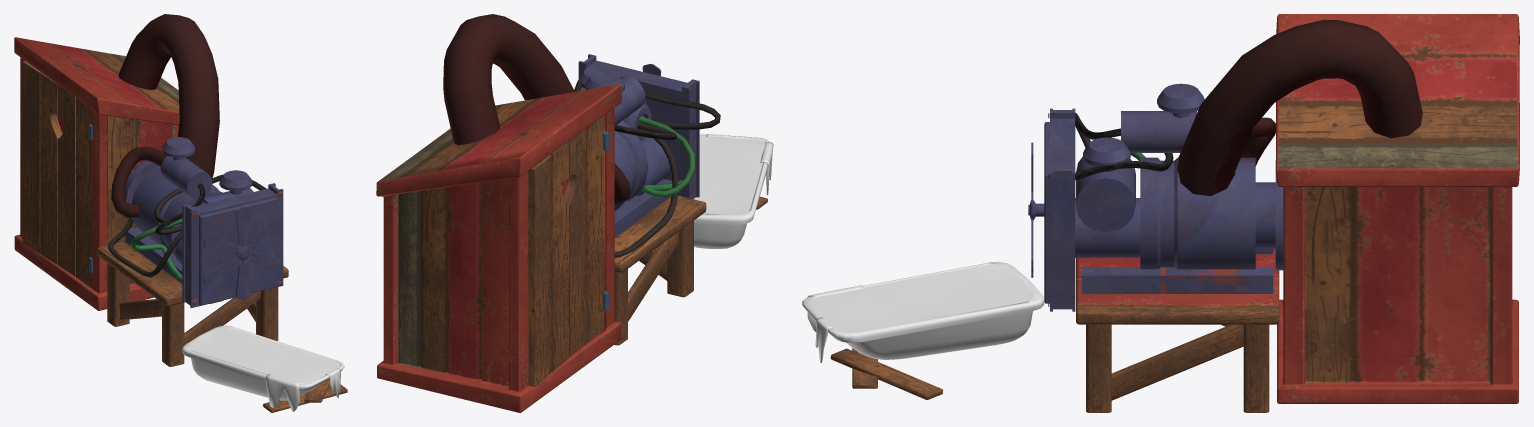
Rendered from Mutagen_Station.fbx.
3 views of the same model, side by side, from view 1: azimuth 30°, elevation 25°; view 2: azimuth 150°, elevation 25°; view 3: azimuth 270°, elevation 25° (orthographic). The views are drawn at different scales.
Visible parts, largest first — view 1: Cube, Cube.011, BézierCurve.005, Cube.010, Mutagen_B, Cube.003, Cylinder, Cube.017, Cube.016, Cube.001, BézierCurve, Cylinder.003 (+12 smaller); view 2: Cube, Cube.011, BézierCurve.005, Mutagen_B, Cube.010, Cube.001, Cube.003, Cube.016, Cylinder, Cube.007, Cube.008, BézierCurve.003 (+9 smaller); view 3: Cube, BézierCurve.005, Cylinder, Mutagen_B, Cube.001, Cube.016, Cube.010, Cube.009, Cube.003, Cube.006, Cylinder.004, Cylinder.003 (+7 smaller).
Part boxes in pixels (box(x1,y1,x2,y2)): Cube: box(14, 37, 179, 310); Cube.011: box(22, 61, 91, 286); BézierCurve.005: box(118, 14, 219, 178); Cube.010: box(182, 183, 283, 307); Mutagen_B: box(188, 327, 340, 384); Cube.003: box(107, 263, 278, 366); Cylinder: box(124, 160, 222, 256); Cube.017: box(203, 206, 283, 299); Cube.016: box(182, 325, 344, 400); Cube.001: box(97, 241, 288, 306); BézierCurve: box(111, 147, 167, 217); Cylinder.003: box(160, 156, 212, 199); Cube: box(376, 84, 621, 412); Cube.011: box(528, 115, 604, 386); BézierCurve.005: box(443, 14, 574, 145); Mutagen_B: box(693, 136, 764, 214); Cube.010: box(578, 54, 699, 198); Cube.001: box(614, 195, 706, 272); Cube.003: box(614, 220, 693, 345); Cube.016: box(694, 134, 769, 248); Cylinder: box(614, 120, 648, 210); Cube.007: box(628, 231, 678, 321); Cube.008: box(614, 178, 672, 236); BézierCurve.003: box(638, 116, 695, 197); Cube: box(1276, 14, 1519, 403); BézierCurve.005: box(1177, 20, 1422, 196); Cylinder: box(1140, 157, 1283, 270); Mutagen_B: box(808, 264, 1034, 332); Cube.001: box(1076, 248, 1279, 324); Cube.016: box(802, 262, 1044, 359); Cube.010: box(1044, 108, 1075, 311); Cube.009: box(1082, 267, 1273, 293); Cube.003: box(1086, 324, 1269, 412); Cube.006: box(1111, 324, 1243, 400); Cylinder.004: box(1076, 156, 1135, 232); Cylinder.003: box(1121, 111, 1196, 152).
Size of the model in its own units: 175 by 329 by 564.
